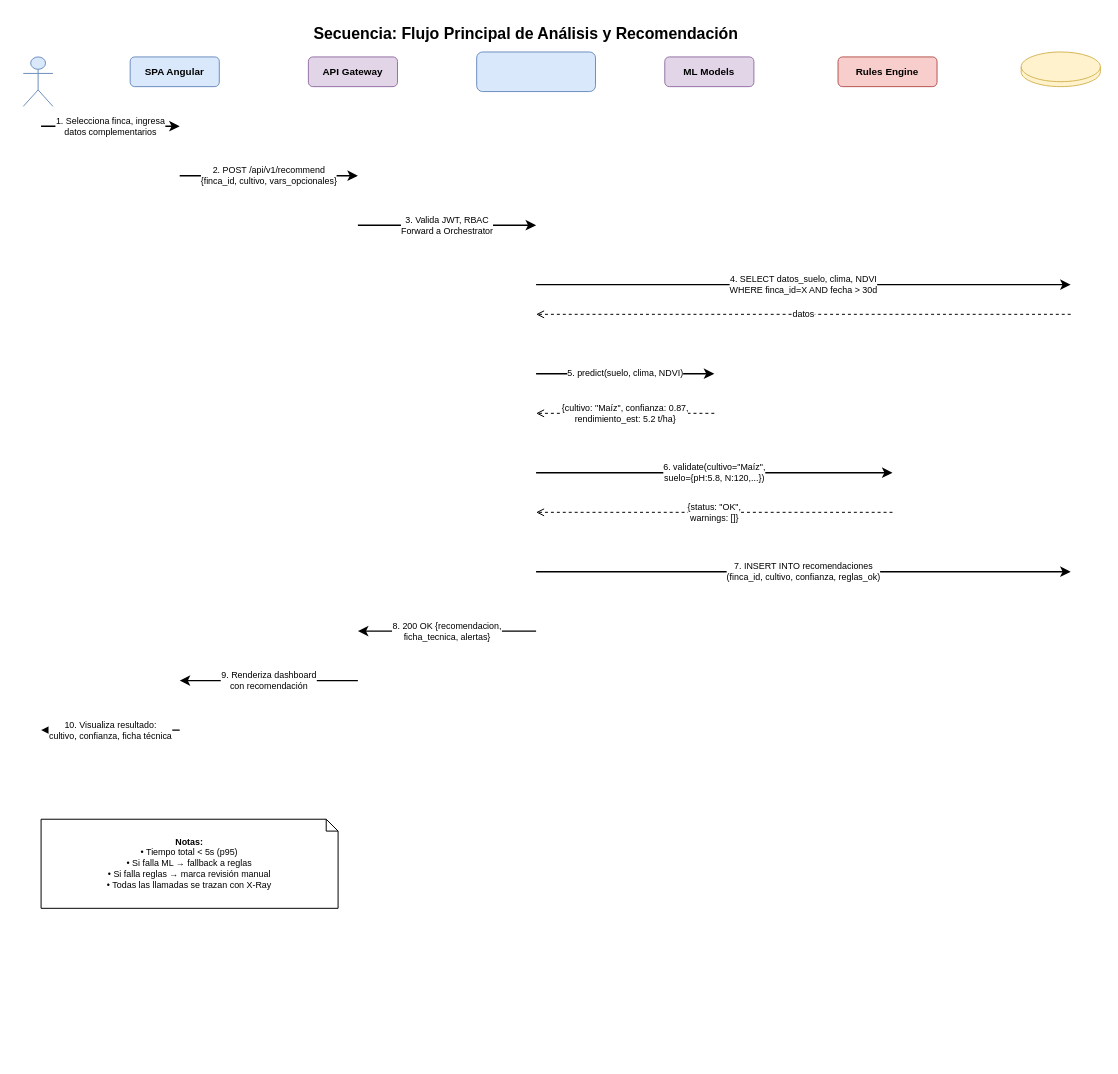
This 1118x1074 diagram has some shape labels left out. Here are the shapes that lost their labels. From the top down, the centre of each, then its label:
pixel 37 81: Agricultor
pixel 535 71: Recommendation Orchestrator
pixel 1060 69: PostgreSQL
